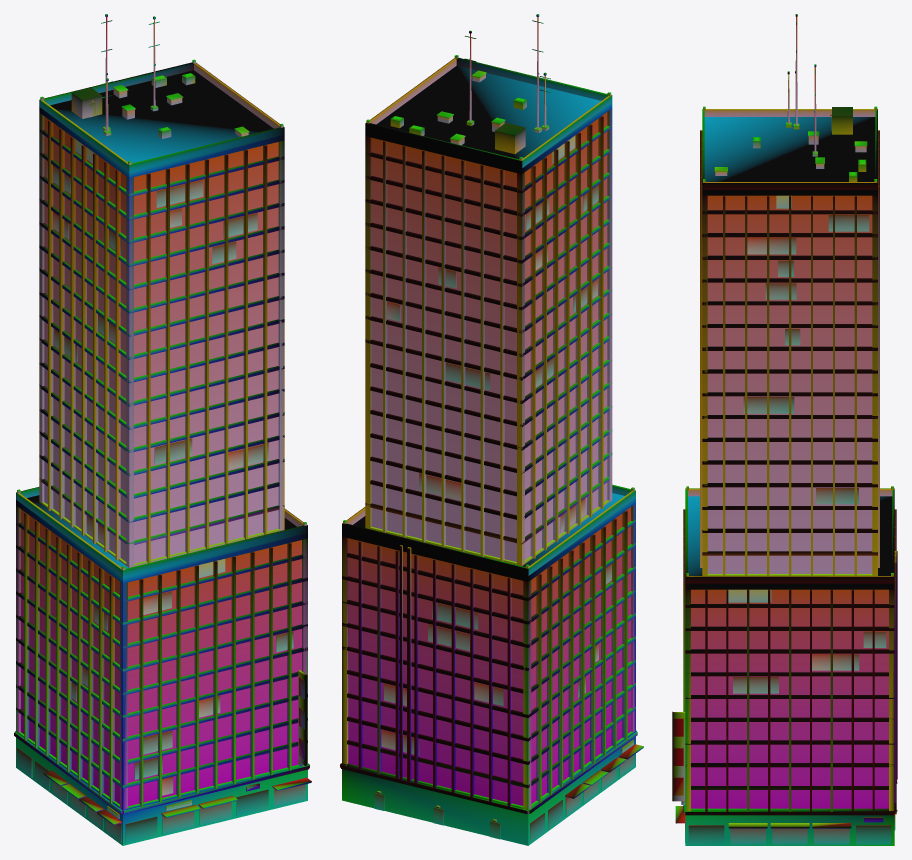
The model's file is Tower_Pad_V14.fbx.
3 views of the same model, side by side, from view 1: azimuth 30°, elevation 25°; view 2: azimuth 150°, elevation 25°; view 3: azimuth 270°, elevation 25° (orthographic). The views are drawn at different scales.
Visible parts, largest first — view 1: Tower_Pad_V14_LOD0; view 2: Tower_Pad_V14_LOD0; view 3: Tower_Pad_V14_LOD0.
Part boxes in pixels (x1,y1,x2,y2): Tower_Pad_V14_LOD0: [14, 14, 311, 845]; Tower_Pad_V14_LOD0: [340, 14, 643, 845]; Tower_Pad_V14_LOD0: [672, 14, 897, 845].
Size of what is drawn, in the model's own units: 32.8 by 121 by 32.31.
